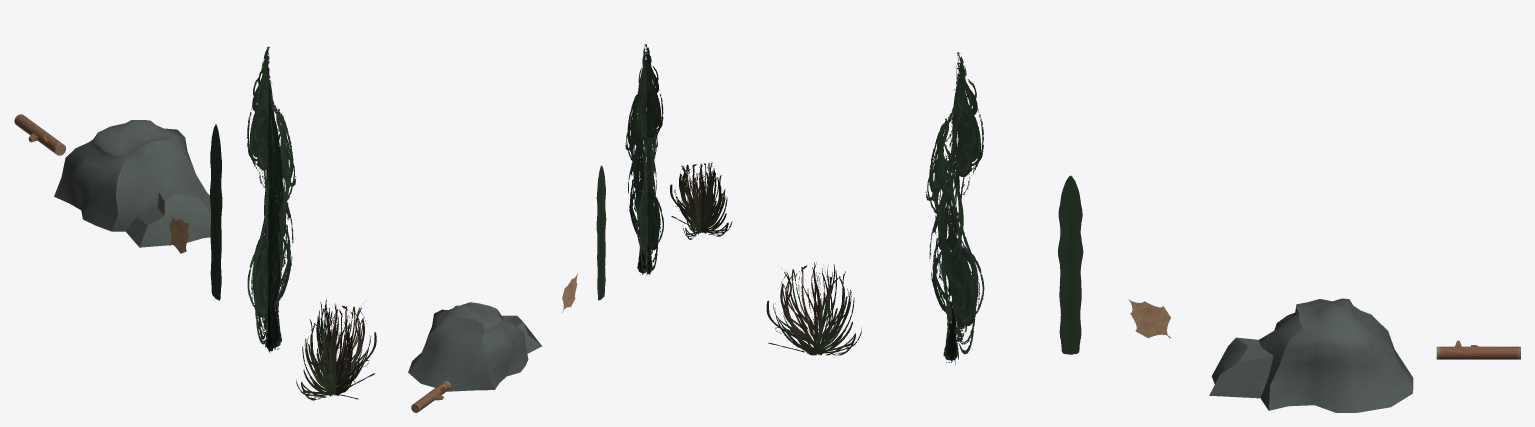
The picture shows the model from 3 angles, left to right: view 1: azimuth 30°, elevation 25°; view 2: azimuth 150°, elevation 25°; view 3: azimuth 270°, elevation 25°; orthographic projection. The views are drawn at different scales.
Parts seen in each view (by area): view 1: Rock, pasted__pPlane2, pasted__pasted__pPlane2, pPlane1, pasted__pPlane1 (×2), Vine, pasted__pasted__pPlane1 (×2), pasted__pasted__pasted__pPlane1, Log1, Leaf1; view 2: Rock, pasted__pasted__pPlane1 (×2), pPlane1, pasted__pasted__pasted__pPlane1, pasted__pPlane1 (×2), Vine, pasted__pasted__pPlane2, pasted__pPlane2, Log1, Leaf1; view 3: Rock, pasted__pPlane1, pasted__pasted__pPlane1, pasted__Vine, Log1, Leaf2.
Part boxes in pixels (x1,y1,x2,y2): Rock: [54, 120, 210, 247]; pasted__pPlane2: [247, 47, 296, 349]; pasted__pasted__pPlane2: [296, 304, 376, 400]; pPlane1: [253, 49, 283, 352]; pasted__pPlane1 (×2): [259, 50, 358, 399]; Vine: [210, 124, 222, 300]; pasted__pasted__pPlane1 (×2): [247, 46, 359, 399]; pasted__pasted__pasted__pPlane1: [296, 305, 375, 399]; Log1: [14, 114, 65, 155]; Leaf1: [169, 217, 189, 253]; Rock: [408, 302, 541, 391]; pasted__pasted__pPlane1 (×2): [625, 44, 718, 274]; pPlane1: [636, 44, 657, 274]; pasted__pasted__pasted__pPlane1: [670, 164, 731, 236]; pasted__pPlane1 (×2): [636, 45, 718, 274]; Vine: [596, 165, 606, 300]; pasted__pasted__pPlane2: [671, 164, 732, 235]; pasted__pPlane2: [625, 44, 663, 273]; Log1: [411, 381, 450, 412]; Leaf1: [562, 273, 577, 312]; Rock: [1209, 298, 1413, 412]; pasted__pPlane1: [925, 52, 984, 362]; pasted__pasted__pPlane1: [766, 262, 861, 355]; pasted__Vine: [1058, 175, 1083, 354]; Log1: [1436, 340, 1520, 359]; Leaf2: [1128, 299, 1170, 338].
Size of the model in its own units: 0.0555 by 0.0904 by 0.1962.
Materials: 14 (14 with a texture image).
